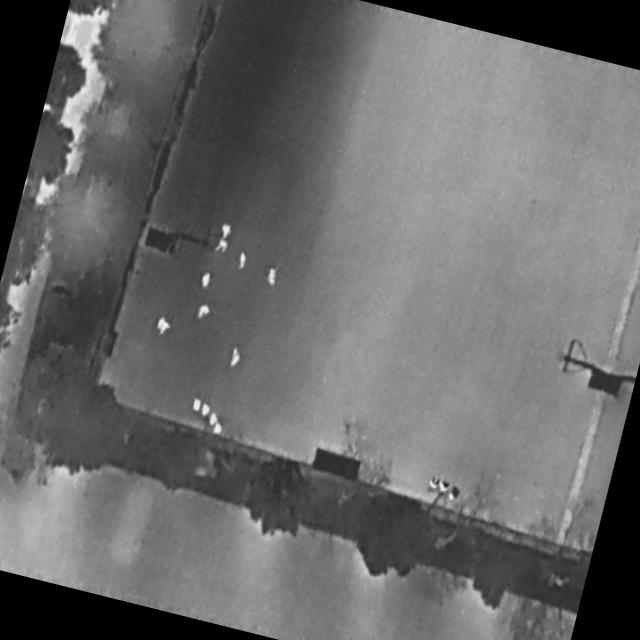person: (153, 316, 174, 340), (263, 265, 283, 290), (235, 249, 251, 273), (228, 347, 244, 370), (195, 304, 212, 323), (219, 222, 235, 241), (214, 238, 230, 255), (199, 273, 212, 291)
